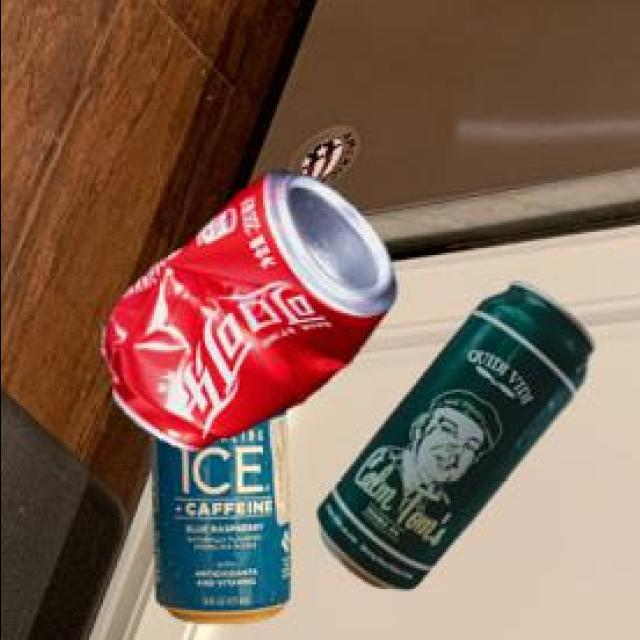logam: (321, 279, 597, 586), (106, 168, 398, 449), (154, 407, 293, 620)
